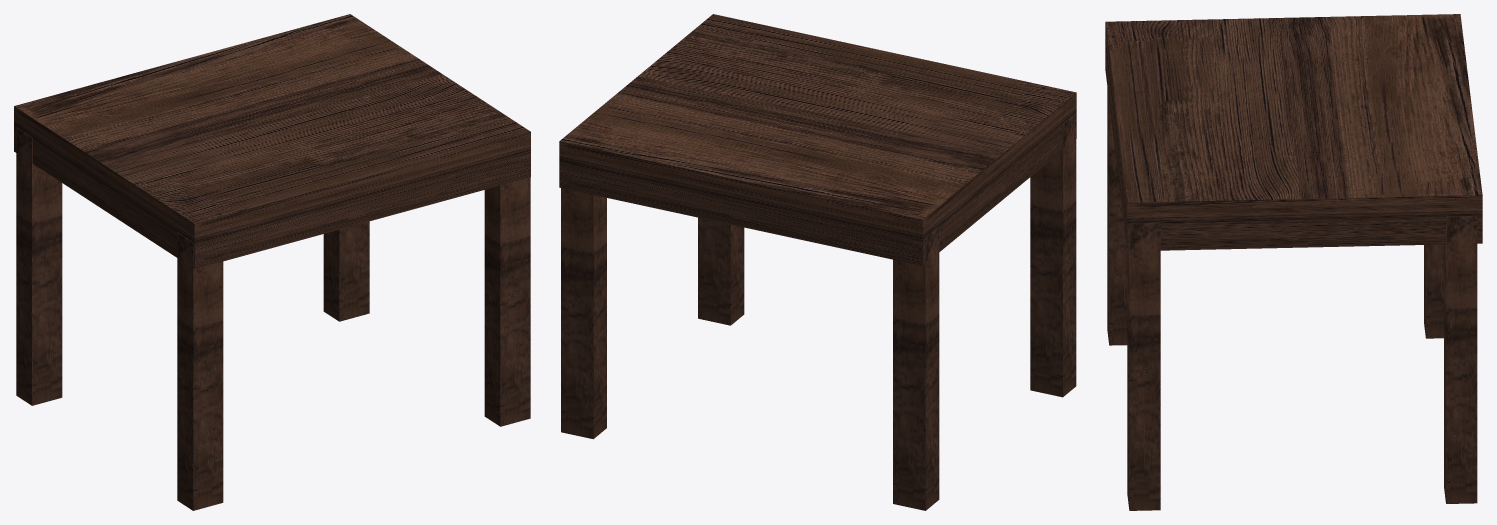
File: tools table.FBX
3 views of the same model, side by side, from view 1: azimuth 30°, elevation 25°; view 2: azimuth 150°, elevation 25°; view 3: azimuth 270°, elevation 25° (orthographic). The views are drawn at different scales.
Visible parts, largest first — view 1: table; view 2: table; view 3: table.
Boxes of the visible parts, <box> form: table: <box>14,14,530,510</box>; table: <box>559,14,1076,510</box>; table: <box>1105,14,1482,510</box>.
Bounding box in the file's own units: 3.81 × 2.89 × 3.21.
1 material, 1 textured.
